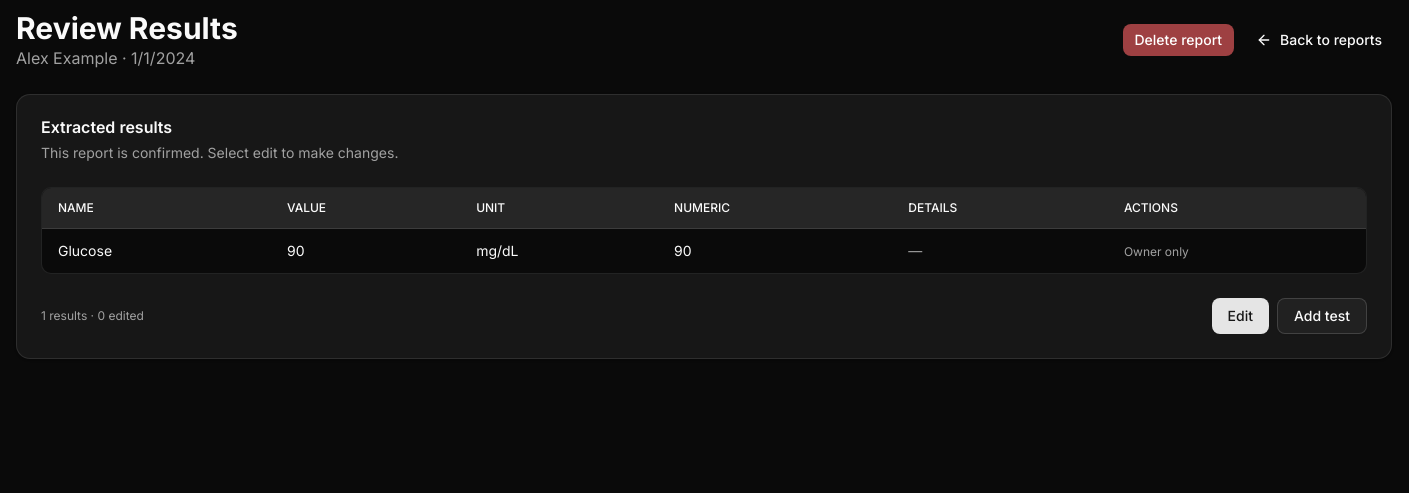
Test: final report allows adding a test directly
expect the text "Glucose" is shown: met, box [58,242,112,259]
Click the button "Add test".
click(1322, 316)  # box [1277,298,1367,334]
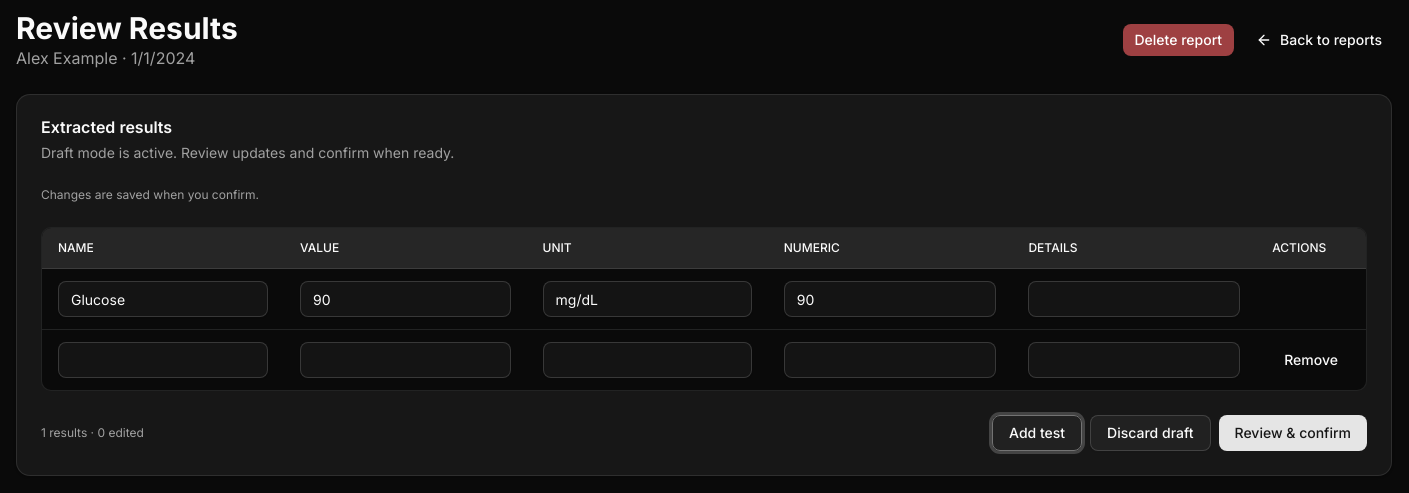
expect the button "Review & confirm" is shown: met, box [1218,415,1367,451]
